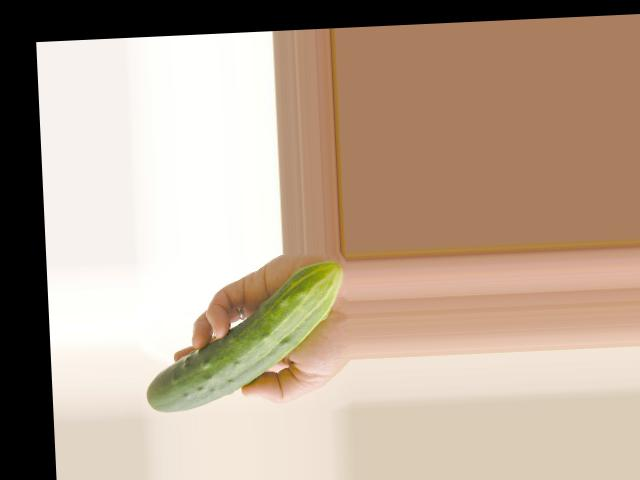cucumber: (140, 260, 347, 412)
